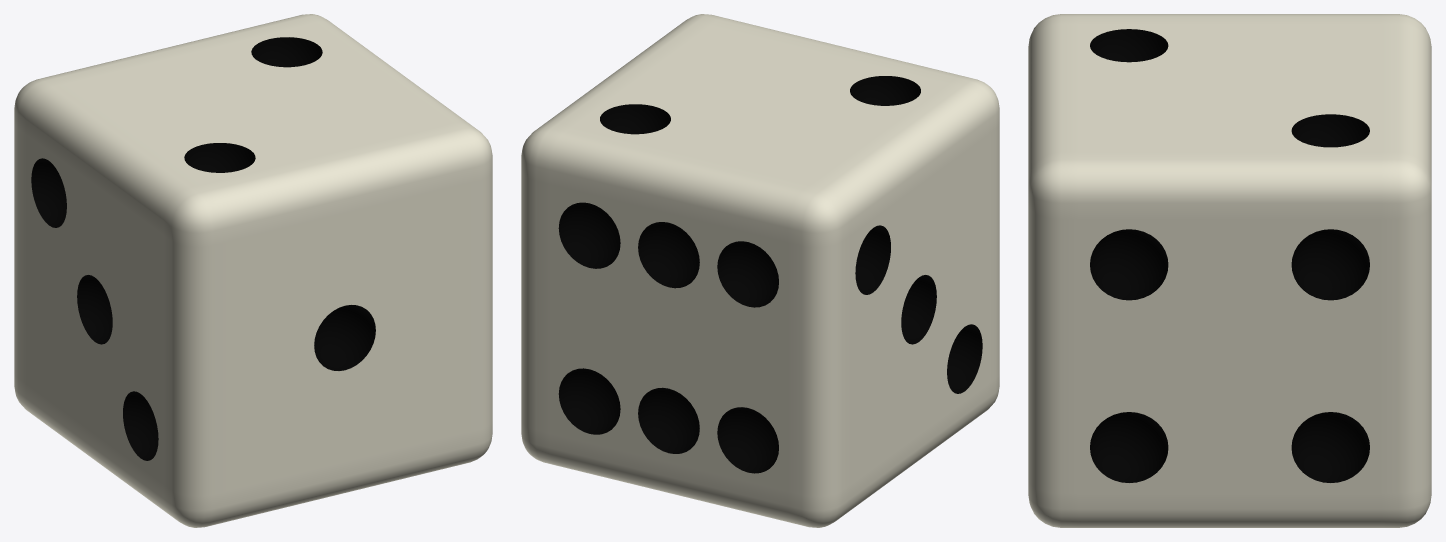
Rendered from dice_model.glb.
3 renders of one model, left to right at view 1: azimuth 30°, elevation 25°; view 2: azimuth 150°, elevation 25°; view 3: azimuth 270°, elevation 25°, orthographic. The views are drawn at different scales.
Visible parts, largest first — view 1: New Die; view 2: New Die; view 3: New Die.
Part boxes in pixels (x1,y1,x2,y2): New Die: (14,14,492,527); New Die: (521,14,999,527); New Die: (1028,14,1431,527).
Bounding box in the file's own units: 1.97 × 1.97 × 1.97.
